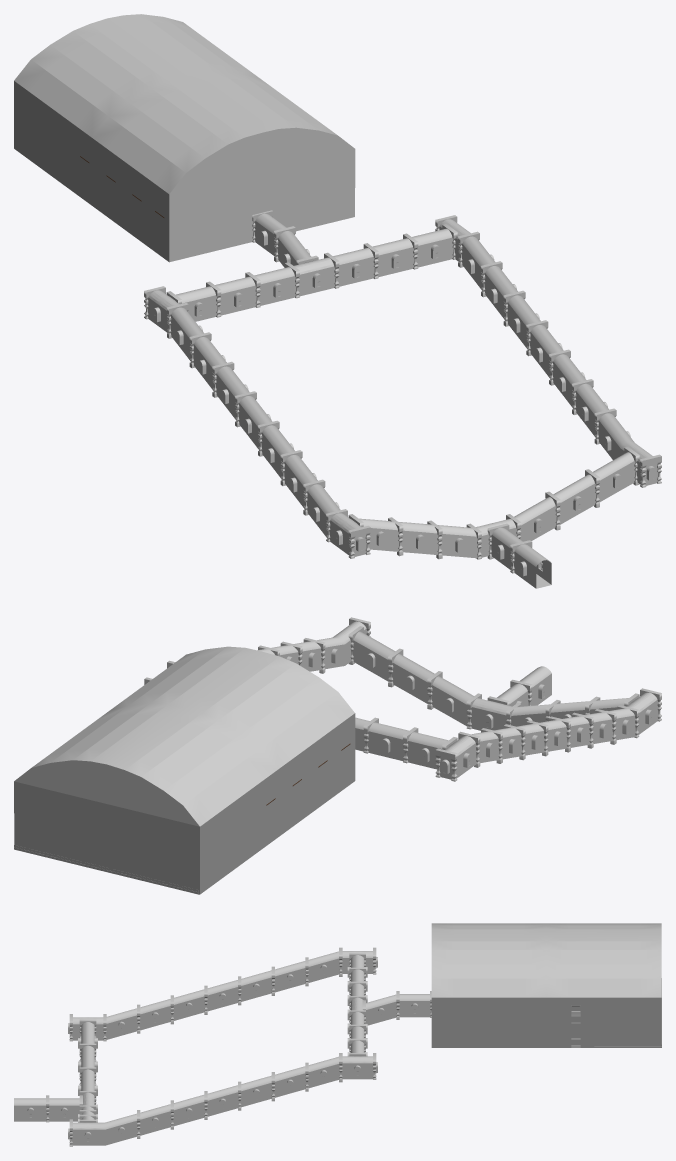
File: Throneroom.fbx
3 renders of one model, top to bottom at view 1: azimuth 30°, elevation 25°; view 2: azimuth 150°, elevation 25°; view 3: azimuth 270°, elevation 25°, orthographic. The views are drawn at different scales.
Visible parts, largest first — view 1: ThroneRoom, polySurface4 (×29); view 2: ThroneRoom, polySurface4 (×22), stair3, stair2; view 3: ThroneRoom, polySurface4 (×25).
Part boxes in pixels (x1,y1,x2,y2): ThroneRoom: (14, 14, 355, 262); polySurface4 (×29): (170, 228, 635, 588); ThroneRoom: (14, 646, 355, 894); polySurface4 (×22): (294, 621, 658, 779); stair3: (14, 847, 198, 894); stair2: (14, 845, 198, 892); ThroneRoom: (431, 923, 661, 1047); polySurface4 (×25): (14, 951, 430, 1145).
Bounding box in the file's own units: 6000 × 4582 × 14448.
